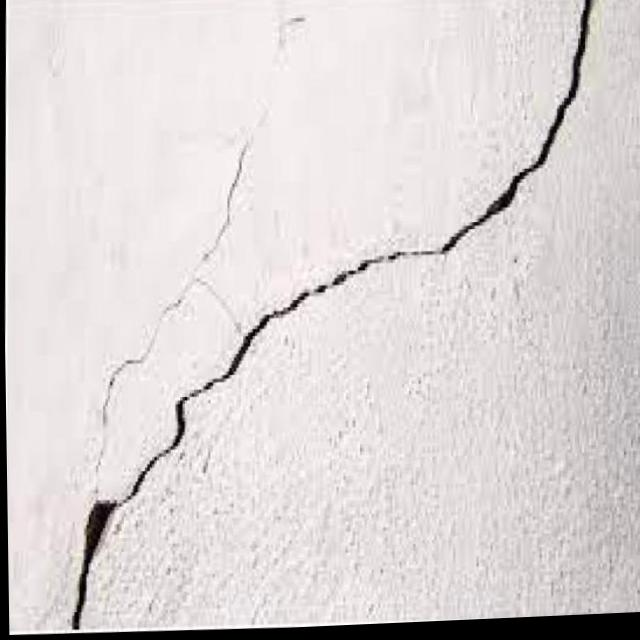Crack: (46, 0, 615, 638)
